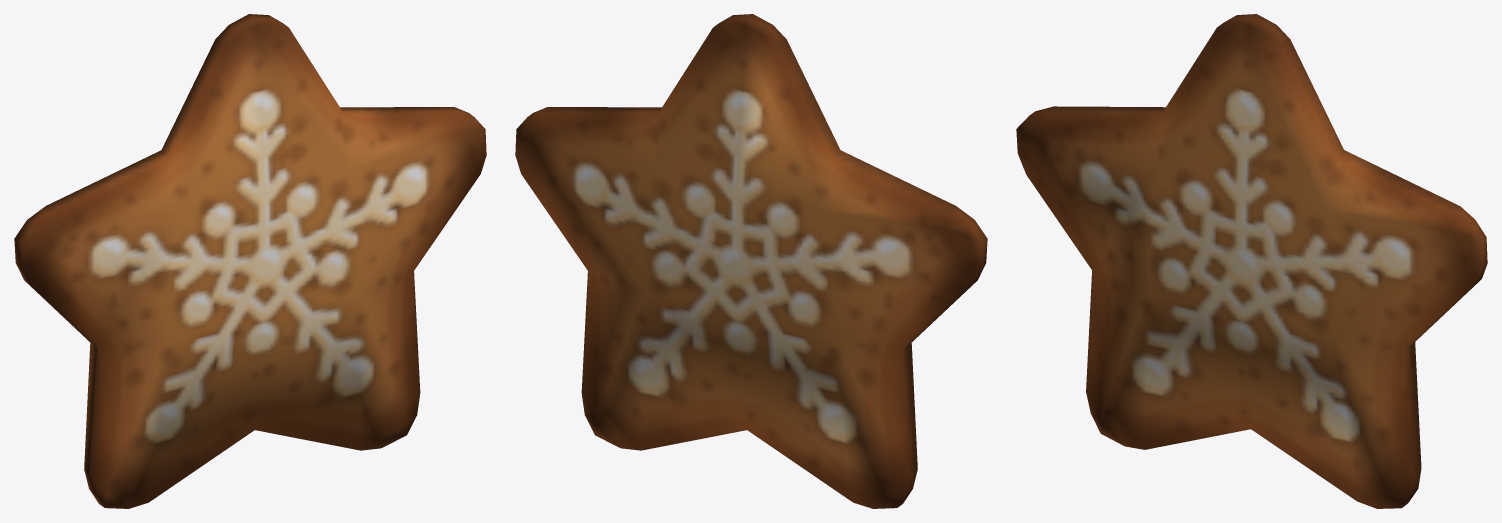
3 views of the same model, side by side, from view 1: azimuth 30°, elevation 25°; view 2: azimuth 150°, elevation 25°; view 3: azimuth 330°, elevation 25° (orthographic).
Parts seen in each view (by area): view 1: _V5_Christmas Collection_0; view 2: _V5_Christmas Collection_0; view 3: _V5_Christmas Collection_0.
Boxes of the visible parts, left/top/right/bottom form: _V5_Christmas Collection_0: left=14, top=14, right=486, bottom=508; _V5_Christmas Collection_0: left=515, top=14, right=987, bottom=508; _V5_Christmas Collection_0: left=1016, top=14, right=1487, bottom=508.
Size of the model in its own units: 55 by 51.99 by 5.04.
1 material, 1 textured.
